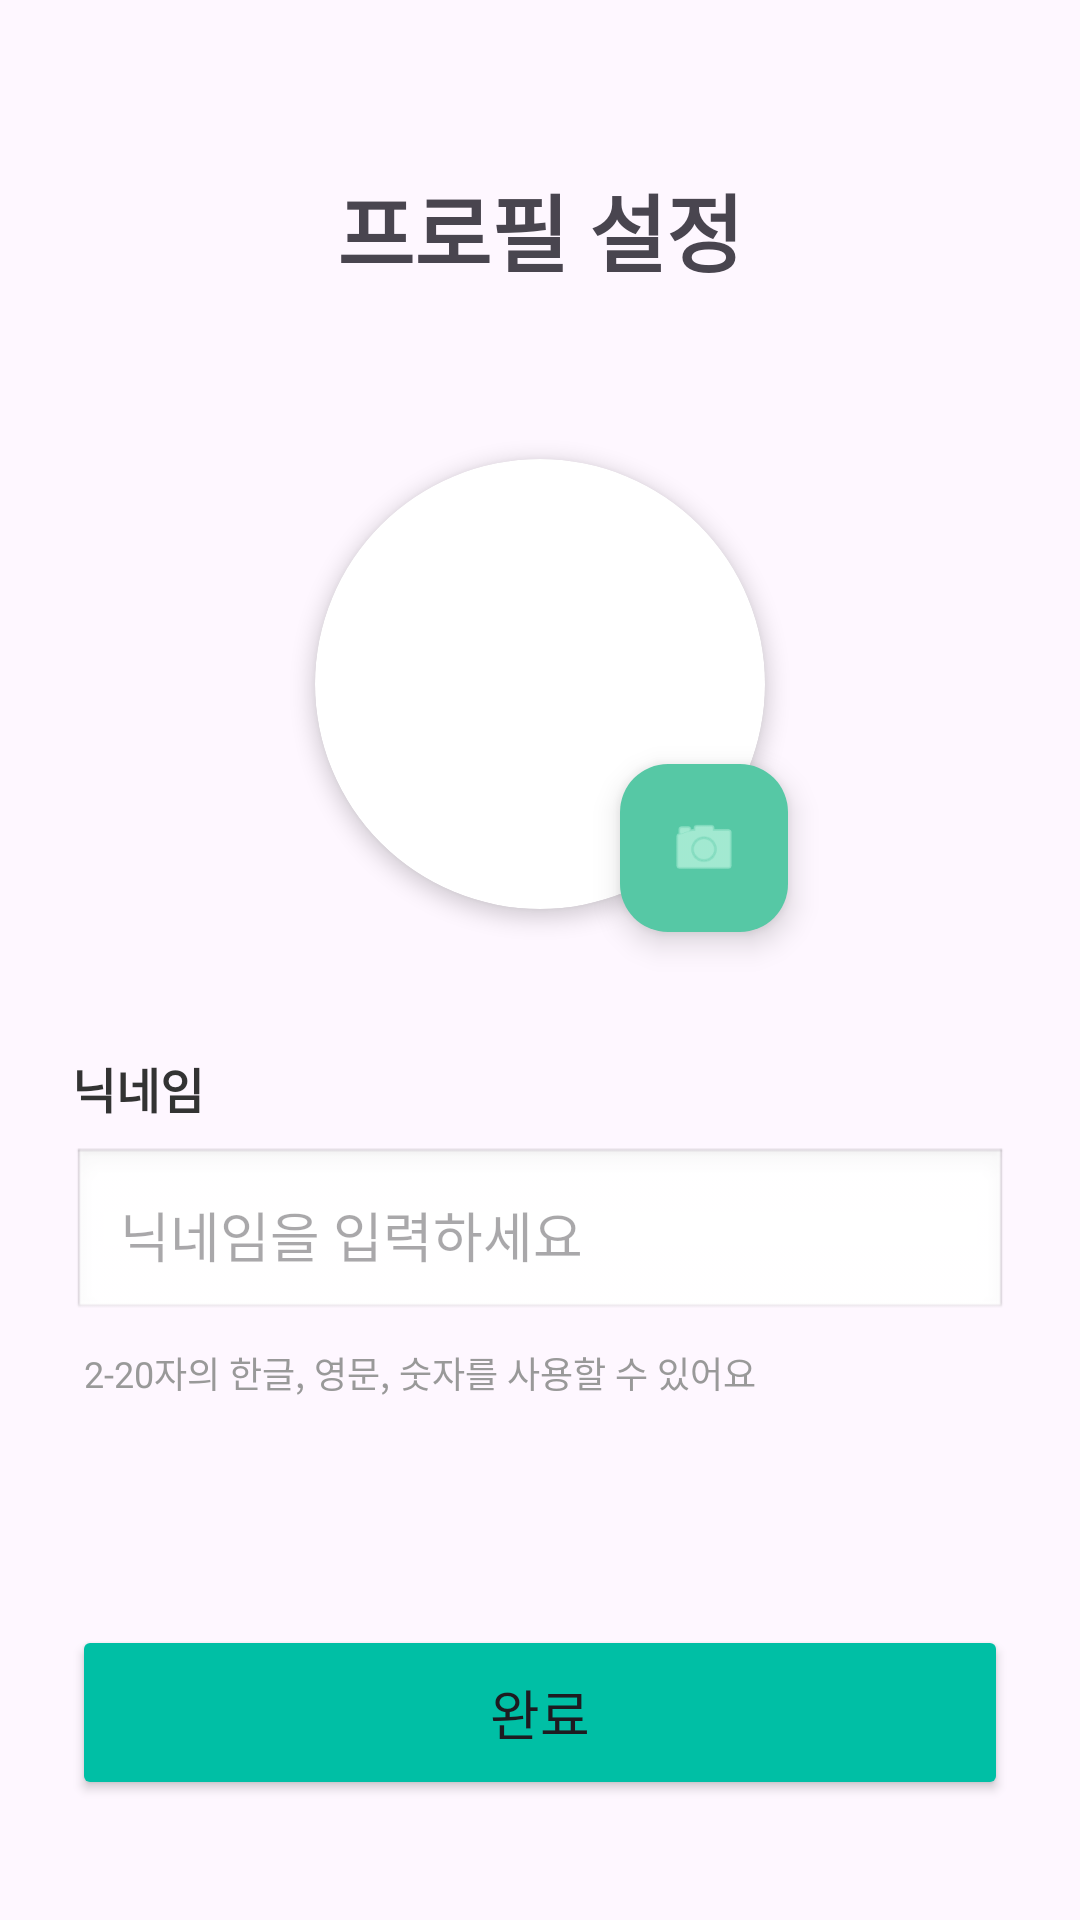

Icons on this 1080×1920 Android screen, each with its box as [x1,y1,x2,y2]:
사진 변경: [620,764,788,932]
